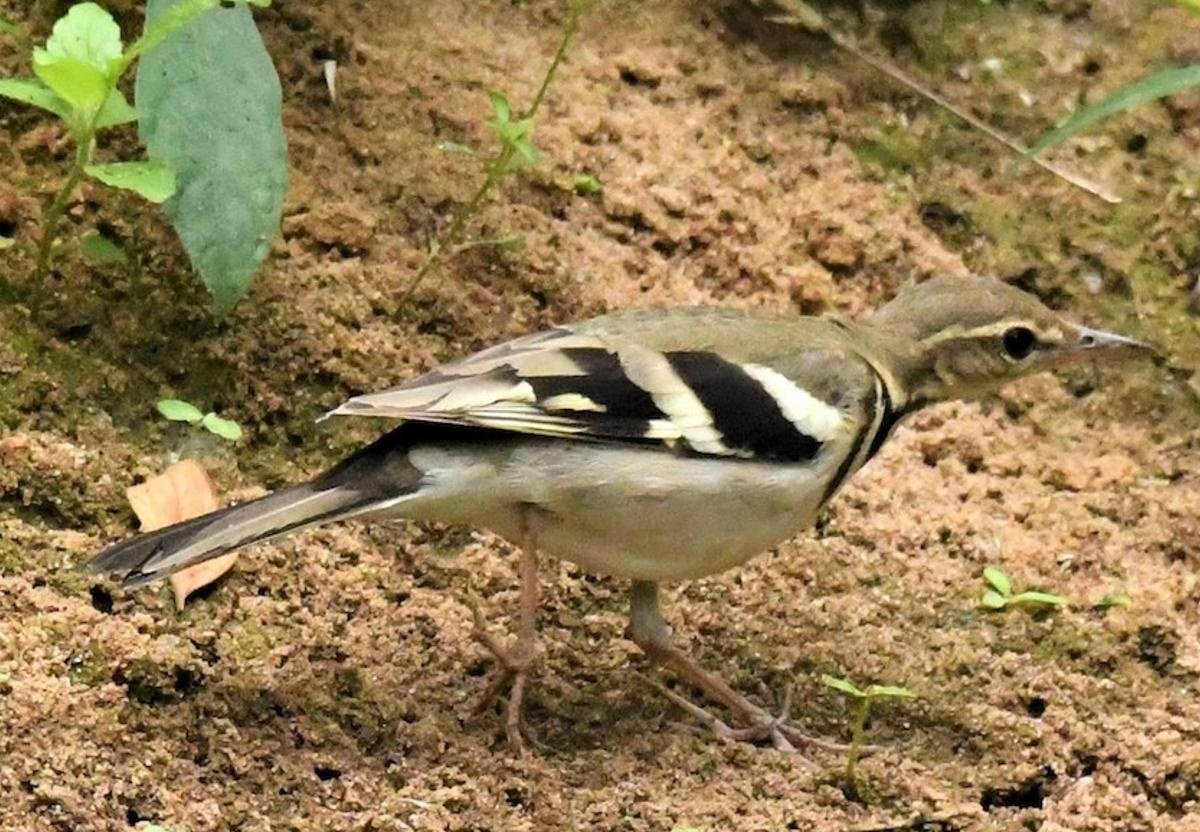wagtail: (273, 254, 1106, 689)
